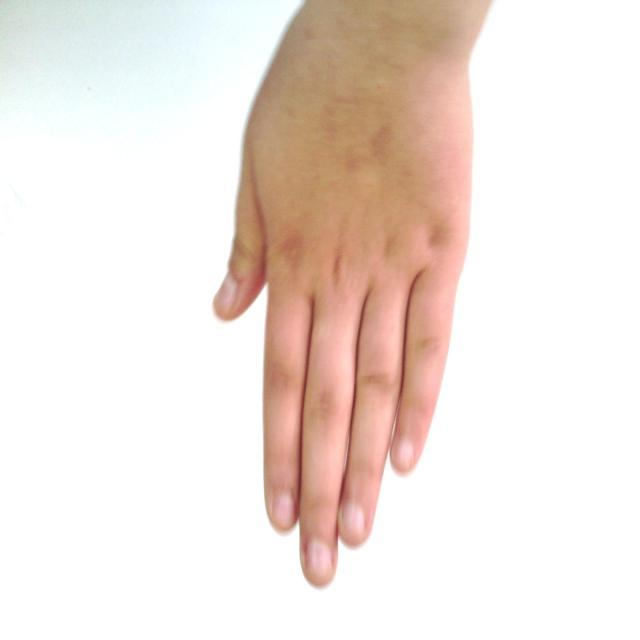Fingernail: (307, 539, 332, 580), (341, 503, 364, 542), (215, 276, 237, 314), (275, 494, 294, 527), (395, 441, 413, 469)
